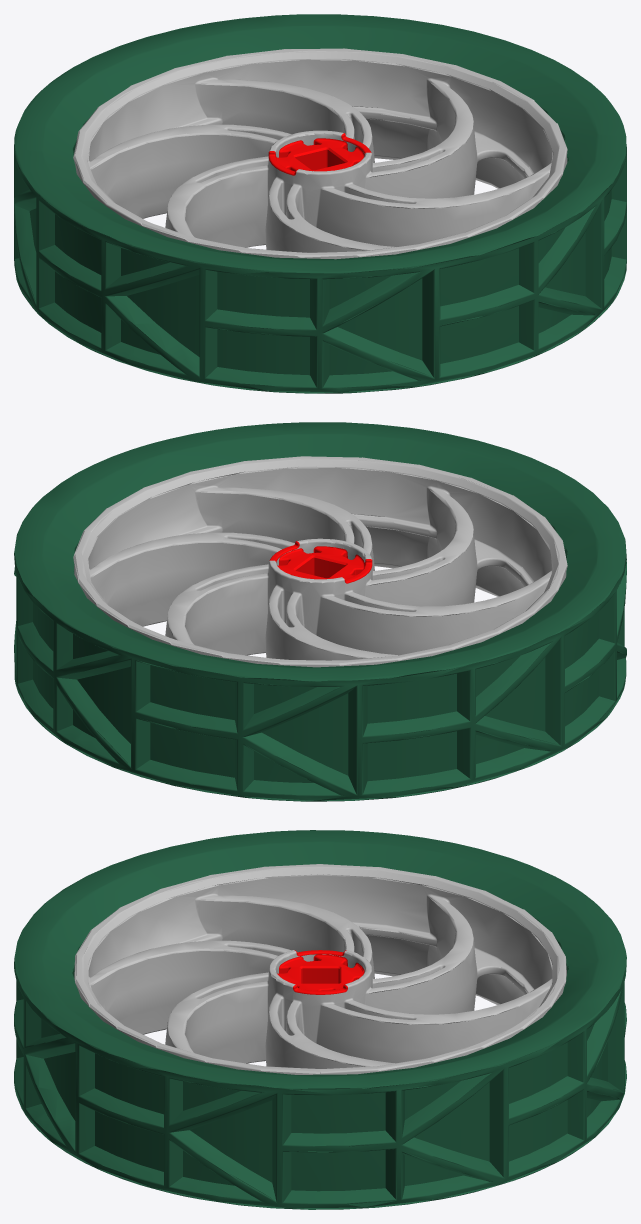
Rendered from 4-wheel-high-strength-bore.glb.
3 views of the same model, one above another, from view 1: azimuth 30°, elevation 25°; view 2: azimuth 150°, elevation 25°; view 3: azimuth 270°, elevation 25° (orthographic).
Parts seen in each view (by area): view 1: 276-1497-002 Rev2, 276-1497-001 Rev4_2015 Mold Modifications; view 2: 276-1497-002 Rev2, 276-1497-001 Rev4_2015 Mold Modifications; view 3: 276-1497-002 Rev2, 276-1497-001 Rev4_2015 Mold Modifications.
Boxes of the visible parts, bbox=[...] form: 276-1497-002 Rev2: bbox=[14, 14, 626, 393]; 276-1497-001 Rev4_2015 Mold Modifications: bbox=[73, 48, 567, 259]; 276-1497-002 Rev2: bbox=[14, 422, 626, 801]; 276-1497-001 Rev4_2015 Mold Modifications: bbox=[73, 456, 567, 667]; 276-1497-002 Rev2: bbox=[14, 830, 626, 1209]; 276-1497-001 Rev4_2015 Mold Modifications: bbox=[74, 864, 566, 1074].
Size of the model in its own units: 0.1016 by 0.0223 by 0.1016.
